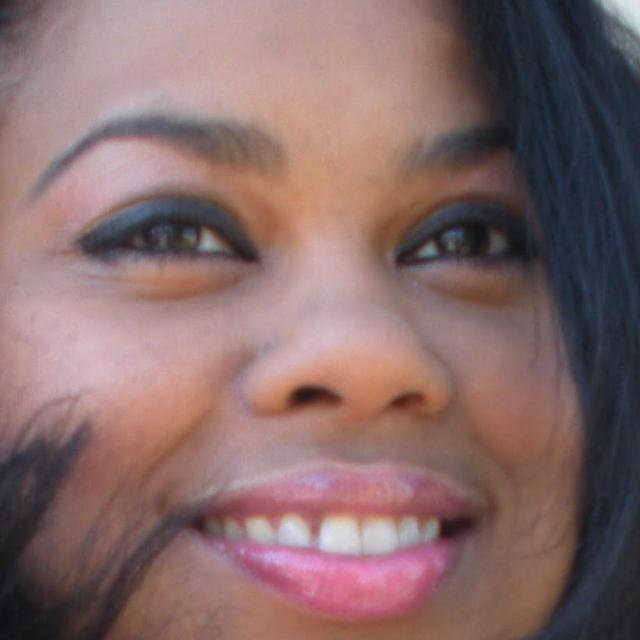Normal: (5, 3, 589, 639)
